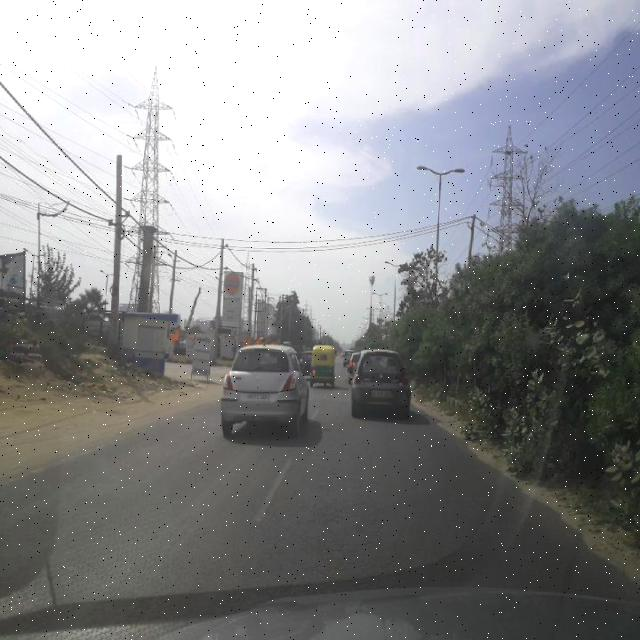D20: (21, 438, 606, 586)
